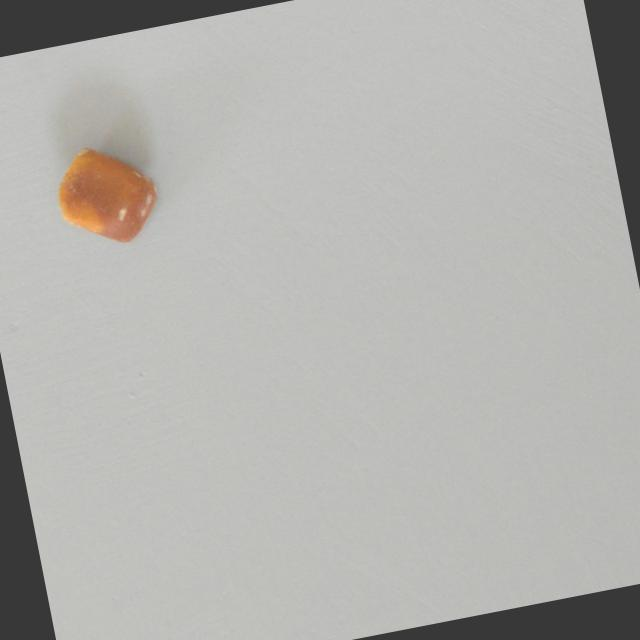dañado: (46, 130, 173, 257)
